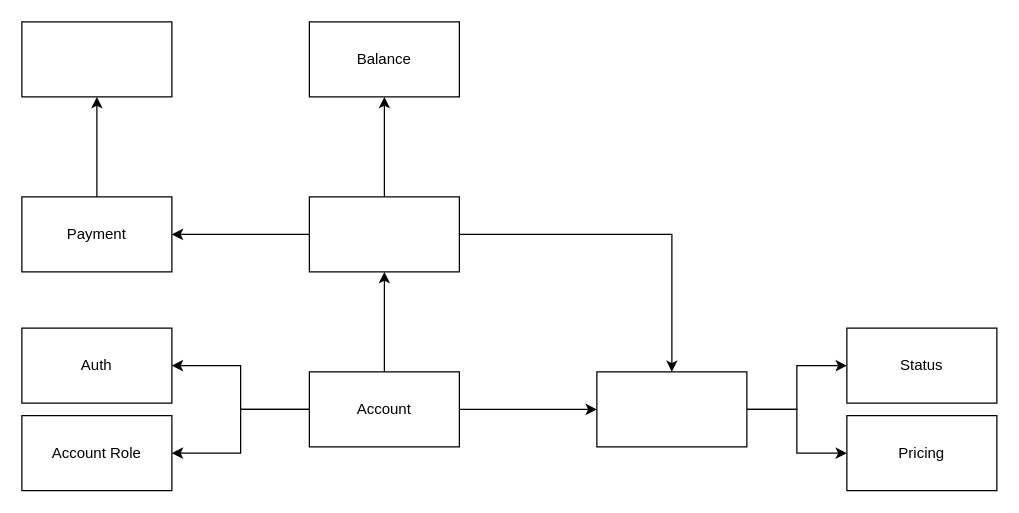
Image size: 1019x513. Some labels were removed from this diagram. The shapes that lost their labels are listed below. From the top down, each one's centre as x and y in pixels, then its label:
(96,59): Email report
(383,234): Transaction Log
(671,409): Task
